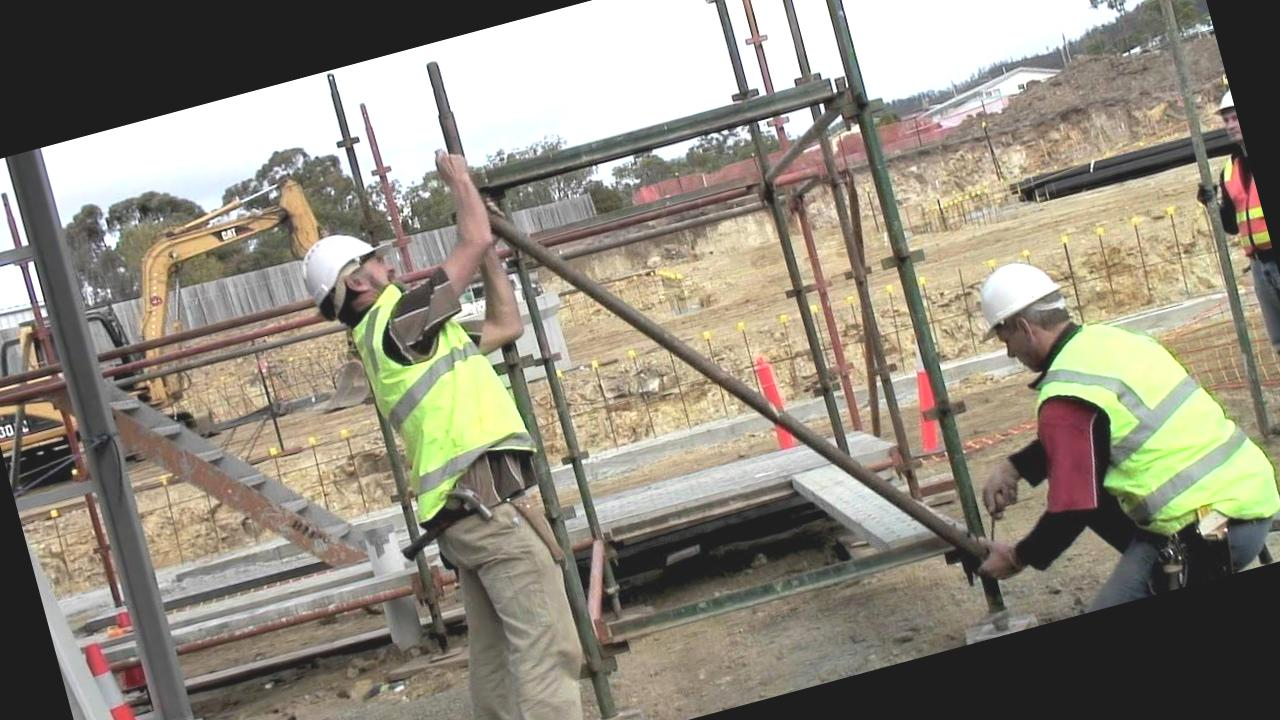helmet: (284, 220, 402, 305), (966, 254, 1069, 334)
person: (285, 191, 622, 720), (956, 201, 1280, 620)
